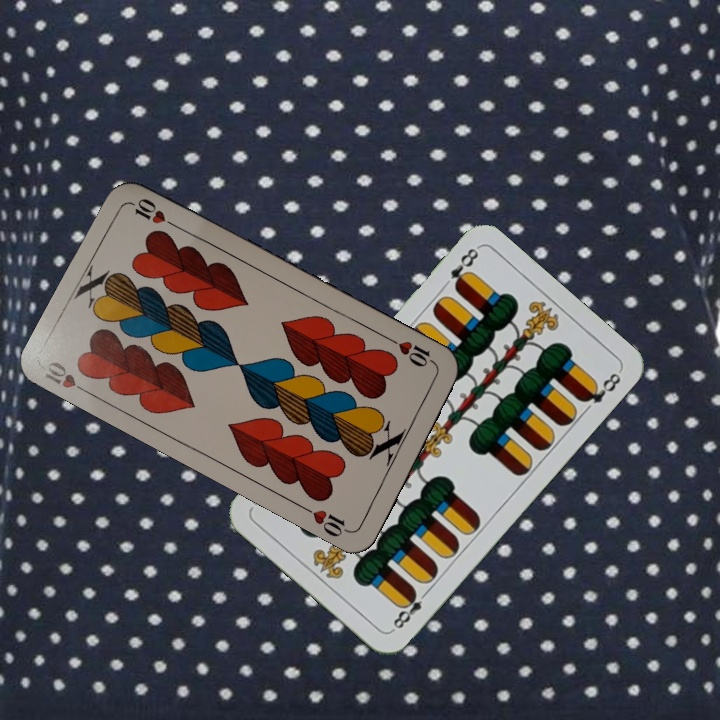E8: (388, 585, 432, 634), (446, 243, 481, 293)
H10: (41, 355, 95, 398), (386, 334, 440, 370)
